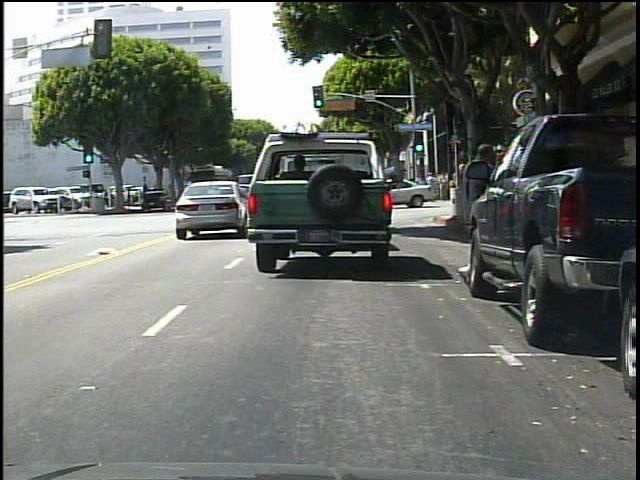person: (455, 143, 505, 279), (426, 170, 435, 186)
